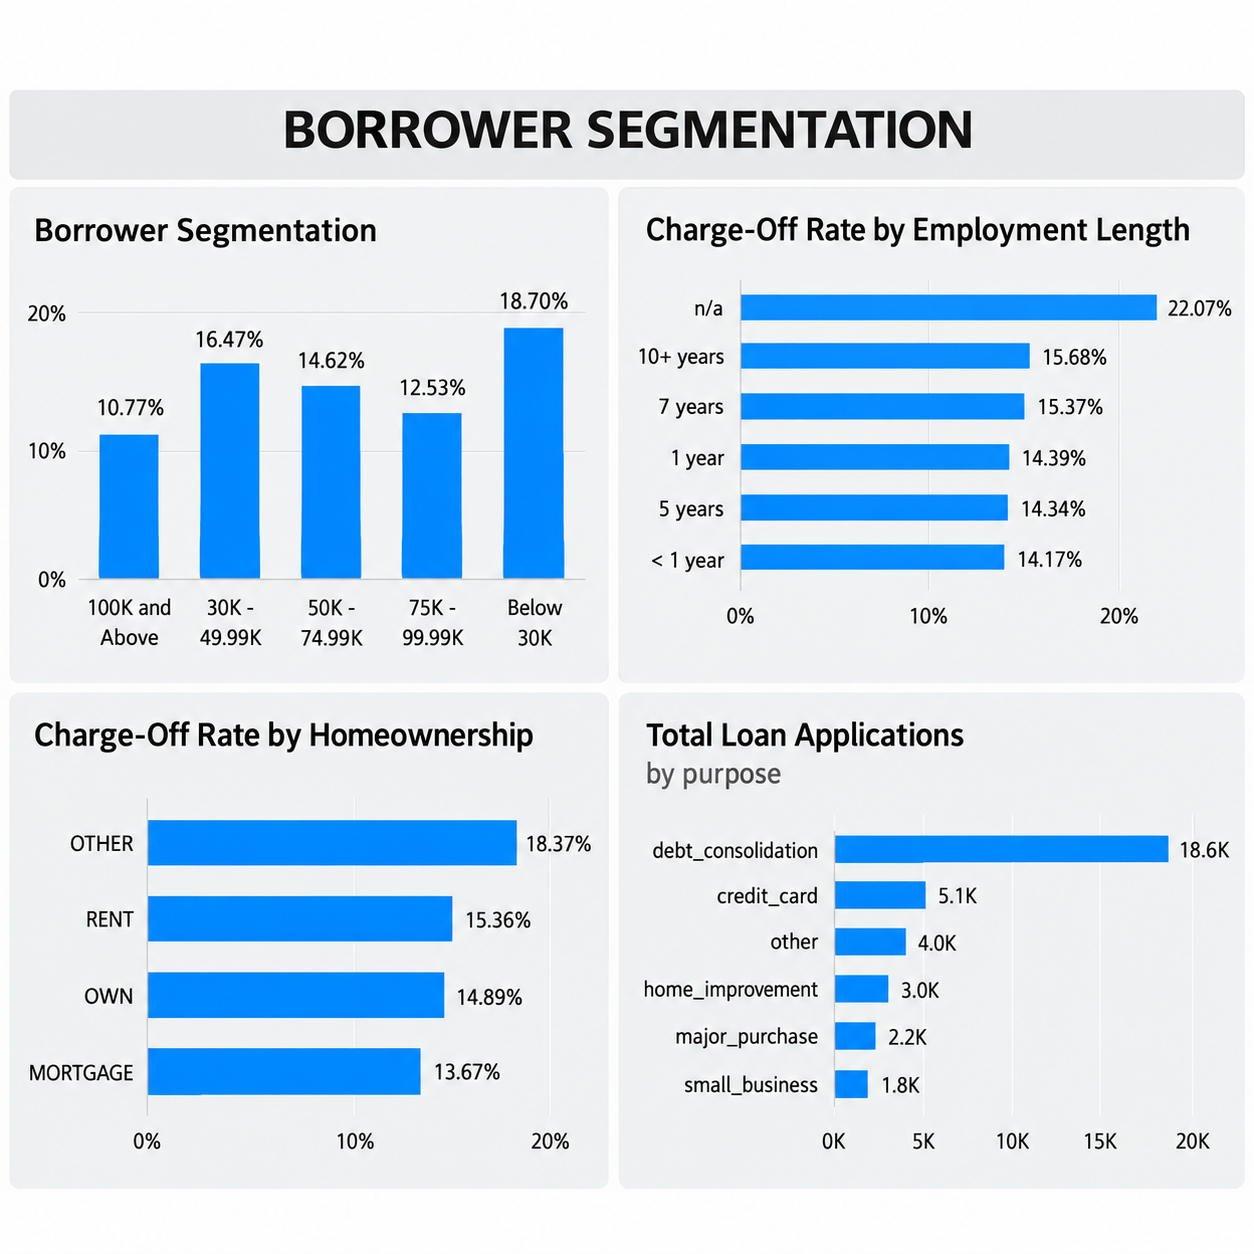

What the dashboard file says about the page in this screenshot:
{"tool":"powerbi","page":{"name":"Borrower Segmentation","canvas":[1920,1080],"ordinal":2},"visuals":[{"type":"clusteredColumnChart","title":"Borrower Segmentation","fields":{"Category":["loan.Income Category"],"Y":["loan.Resolved Charged Off Rate"]},"box":[0,56.2,380,250],"z":0},{"type":"clusteredBarChart","title":"Charge-Off Rate by Employment Length","fields":{"Category":["loan.emp_length"],"Y":["loan.Resolved Charged Off Rate"]},"box":[392.5,56.2,485,250],"z":1},{"type":"clusteredBarChart","title":"Charge-Off Rate by Homeownership","fields":{"Category":["loan.home_ownership"],"Y":["loan.Resolved Charged Off Rate"]},"box":[0,315,380,276.7],"z":2},{"type":"clusteredBarChart","fields":{"Category":["loan.purpose"],"Y":["loan.Total Loan Applications"]},"box":[392.5,315,485,276.7],"z":3},{"type":"textbox","box":[0,0,877.5,55],"z":4}]}

Visuals, with their boxes on the page's 1920x1080 design canvas (x1, y1, x2, y2). These are canvas units, not pixel positions in the 1254x1254 screenshot, which may show the page scaled, cropped or inside an application window:
"Borrower Segmentation" clusteredColumnChart: <box>0,56,380,306</box>
"Charge-Off Rate by Employment Length" clusteredBarChart: <box>392,56,878,306</box>
"Charge-Off Rate by Homeownership" clusteredBarChart: <box>0,315,380,592</box>
clusteredBarChart - loan.purpose x loan.Total Loan Applications: <box>392,315,878,592</box>
textbox: <box>0,0,878,55</box>
